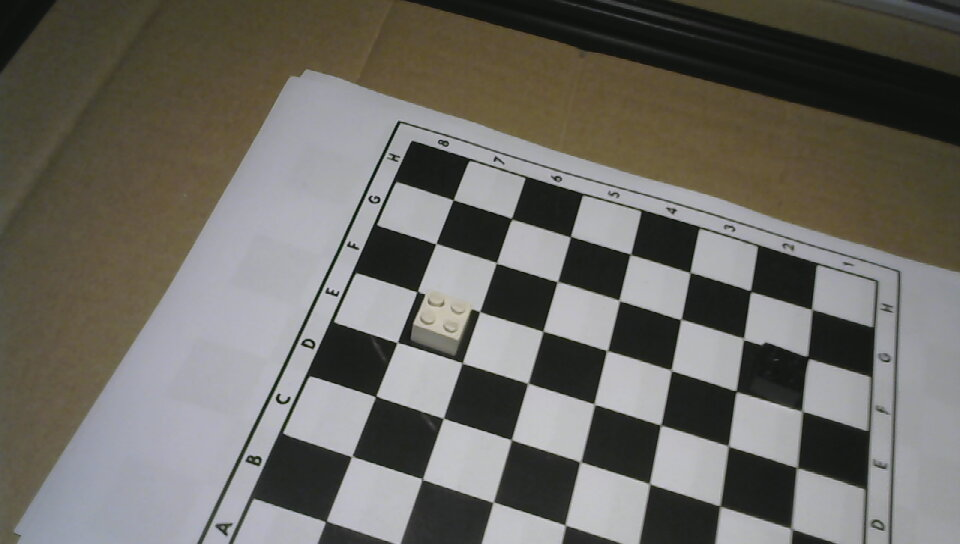bp: (742, 337, 814, 410)
